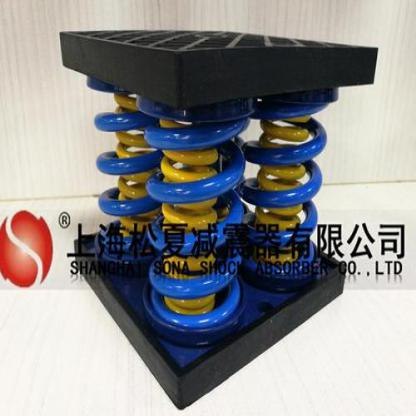FOD: (144, 114, 253, 333), (242, 97, 330, 290), (86, 74, 154, 268), (159, 110, 216, 318), (257, 112, 312, 266), (113, 87, 153, 242)
